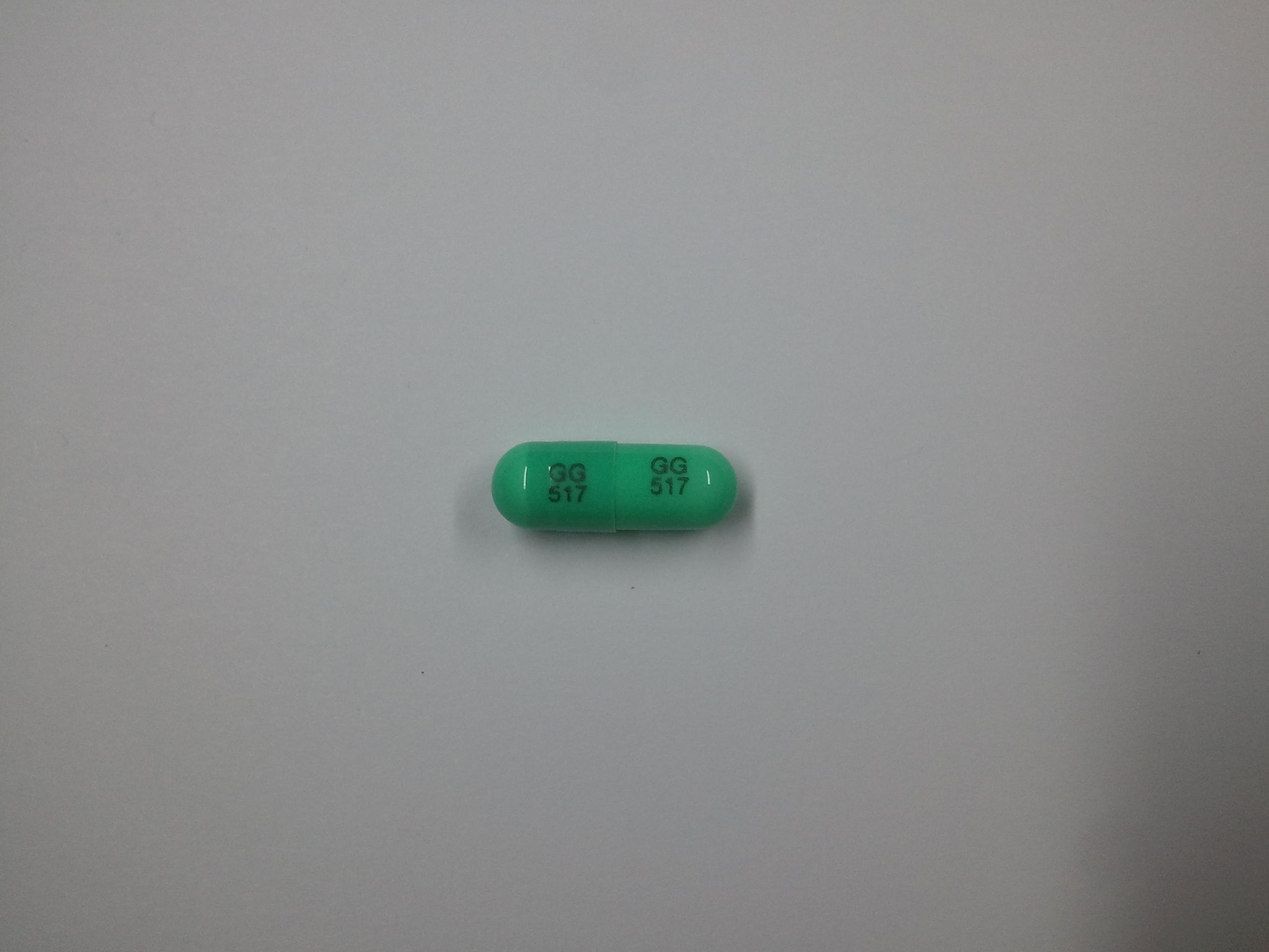Pill: (486, 433, 744, 540)
